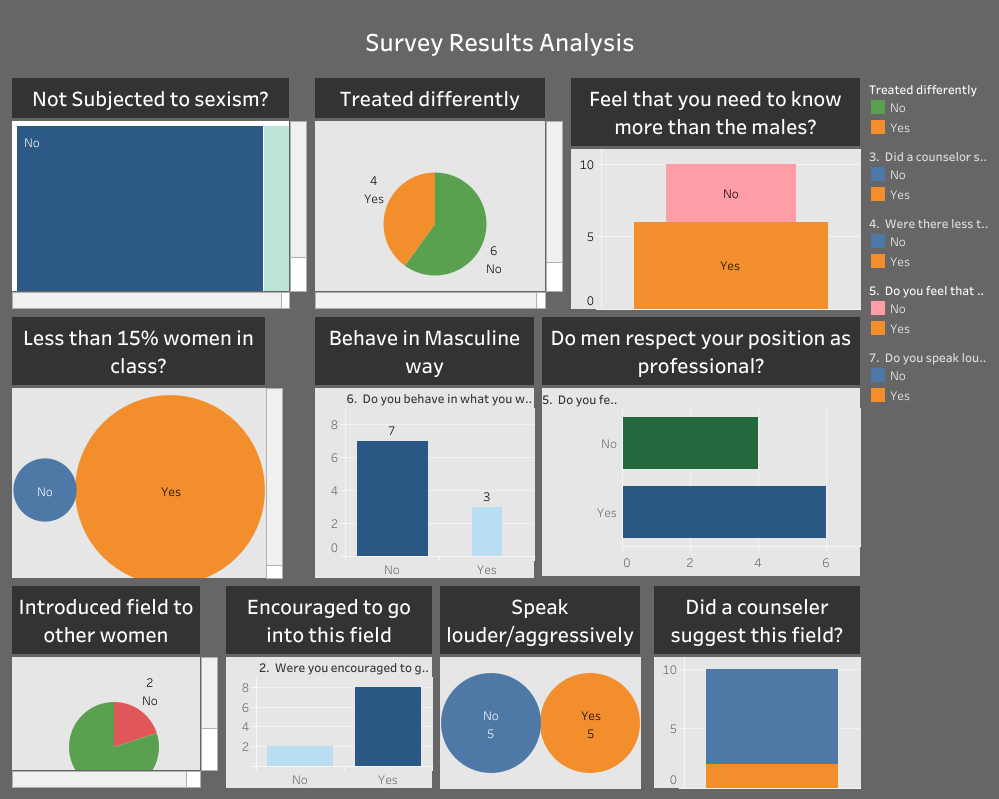

What the dashboard file says about the page in this screenshot:
{"tool":"tableau","page":{"name":"Survey analysis","canvas":[1000,800],"ordinal":0},"visuals":[{"type":"text","box":[8,8,984,66]},{"type":"worksheet","title":"Sheet 5","mark":"Automatic","box":[8,74,303,239.3]},{"type":"worksheet","title":"Sheet 3","mark":"Pie","box":[311,74,256,239.3]},{"type":"worksheet","title":"Sheet 9","mark":"Bar","rows":["Form Responses 1_2E30DDBACE2641F787512EB9E9E14E39"],"box":[567,74,297,239.3]},{"type":"legend","title":"Sheet 3","param":"[federated.12ys4xk0si00dk1f14kqm07d6v6y].[none:1. Do/Did you feel that you are t","box":[864,74,128,66]},{"type":"legend","title":"Sheet 6","param":"[federated.12ys4xk0si00dk1f14kqm07d6v6y].[none:3.  Did a counselor suggest this ","box":[864,140,128,66]},{"type":"legend","title":"Sheet 7","param":"[federated.12ys4xk0si00dk1f14kqm07d6v6y].[none:4.  Were there less than 15% wome","box":[864,206,128,66]},{"type":"legend","title":"Sheet 9","param":"[federated.12ys4xk0si00dk1f14kqm07d6v6y].[none:5.  Do you feel that you have to ","box":[864,272,128,66]},{"type":"worksheet","title":"Sheet 7","mark":"Circle","box":[8,313.3,303,268.7]},{"type":"worksheet","title":"Sheet 10","mark":"Automatic","rows":["Form Responses 1_2E30DDBACE2641F787512EB9E9E14E39"],"box":[311,313.3,227,268.7]},{"type":"worksheet","title":"Sheet 8","mark":"Automatic","rows":["5.  Do you feel that you have to know more than the males in"],"cols":["Form Responses 1_2E30DDBACE2641F787512EB9E9E14E39"],"box":[538,313.3,326,268.7]},{"type":"legend","title":"Sheet 11","param":"[federated.12ys4xk0si00dk1f14kqm07d6v6y].[none:7.  Do you speak louder or more a","box":[864,338,128,66]},{"type":"worksheet","title":"Sheet 12","mark":"Pie","box":[8,582,214,210]},{"type":"worksheet","title":"Sheet 4","mark":"Automatic","rows":["Form Responses 1_2E30DDBACE2641F787512EB9E9E14E39"],"cols":["2.  Were you encouraged to go into this field?"],"box":[222,582,214,210]},{"type":"worksheet","title":"Sheet 11","mark":"Circle","box":[436,582,214,210]},{"type":"worksheet","title":"Sheet 6","mark":"Automatic","rows":["Form Responses 1_2E30DDBACE2641F787512EB9E9E14E39"],"box":[650,582,214,210]}]}

Visuals, with their boxes in screenshot pixels (x1, y1, x2, y2), scaled from the page's 1000x800 canvas onto the 999x799 screenshot:
text: (8, 8, 991, 74)
"Sheet 5" worksheet: (8, 74, 311, 313)
"Sheet 3" worksheet (Pie marks): (311, 74, 566, 313)
"Sheet 9" worksheet (Bar marks): (566, 74, 863, 313)
"Sheet 3" legend: (863, 74, 991, 140)
"Sheet 6" legend: (863, 140, 991, 206)
"Sheet 7" legend: (863, 206, 991, 272)
"Sheet 9" legend: (863, 272, 991, 338)
"Sheet 7" worksheet (Circle marks): (8, 313, 311, 581)
"Sheet 10" worksheet: (311, 313, 537, 581)
"Sheet 8" worksheet: (537, 313, 863, 581)
"Sheet 11" legend: (863, 338, 991, 403)
"Sheet 12" worksheet (Pie marks): (8, 581, 222, 791)
"Sheet 4" worksheet: (222, 581, 436, 791)
"Sheet 11" worksheet (Circle marks): (436, 581, 649, 791)
"Sheet 6" worksheet: (649, 581, 863, 791)
